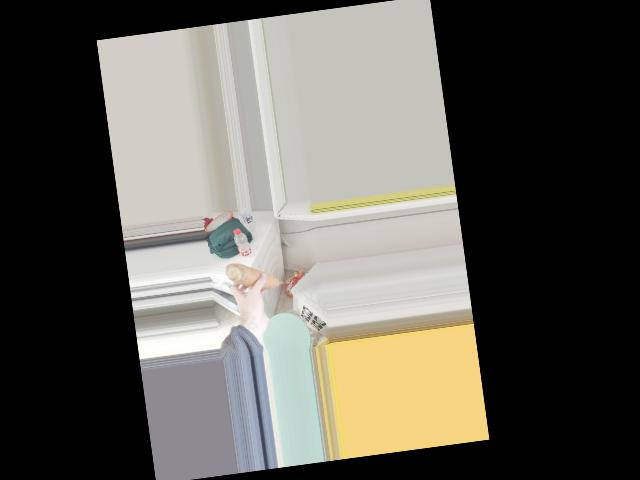sweet_potato: (227, 255, 279, 298)
